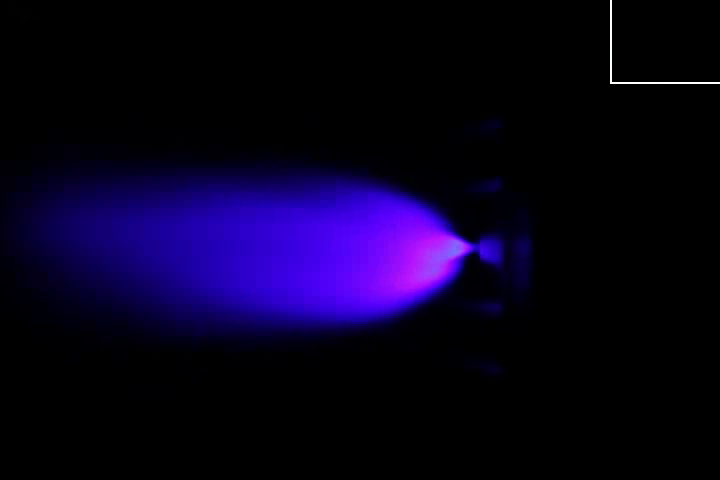burner cap: (476, 232, 503, 269)
stable: (352, 213, 476, 301)
